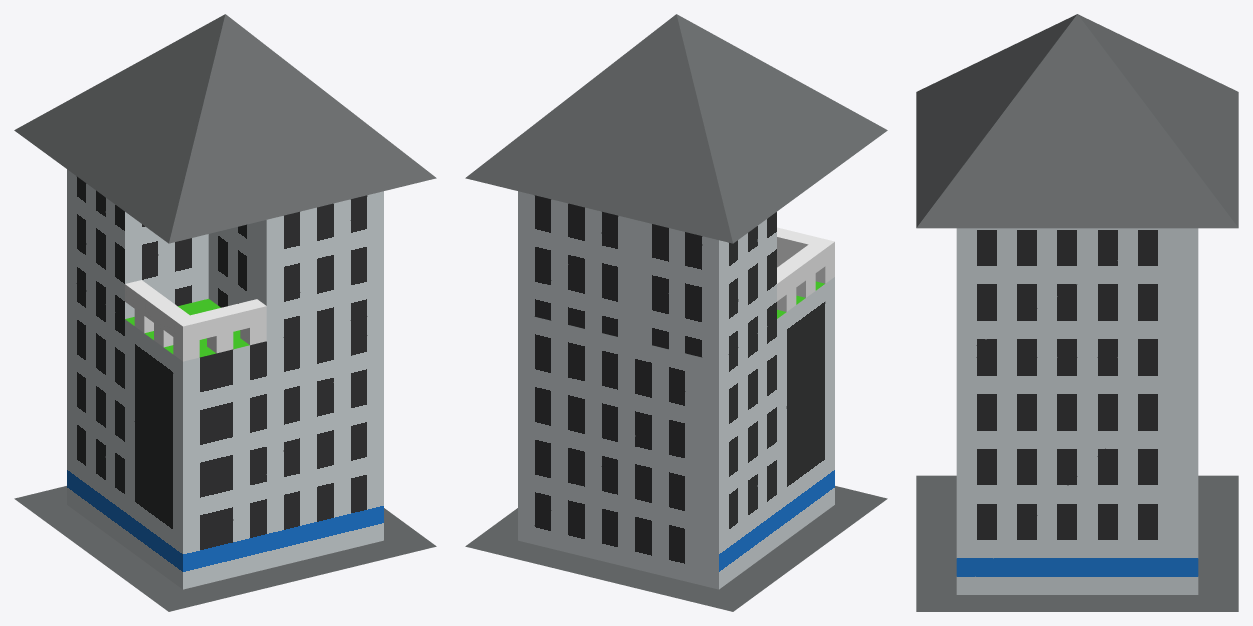
Rendered from building.gltf.
The picture shows the model from 3 angles, left to right: view 1: azimuth 30°, elevation 25°; view 2: azimuth 150°, elevation 25°; view 3: azimuth 270°, elevation 25°; orthographic projection. The views are drawn at different scales.
Visible parts, largest first — view 1: building, pyramid, building_up, building_corner, plane, cube; view 2: building, pyramid, building_corner, building_up, plane; view 3: building, pyramid, building_up, plane.
Part boxes in pixels (x1,y1,x2,y2): building: (67, 277, 383, 589); pyramid: (14, 14, 436, 243); building_up: (208, 191, 383, 340); building_corner: (67, 169, 208, 318); plane: (14, 486, 436, 611); cube: (173, 315, 199, 343); building: (518, 277, 834, 589); pyramid: (465, 14, 887, 243); building_corner: (635, 212, 776, 361); building_up: (518, 191, 635, 340); plane: (465, 486, 887, 611); building: (956, 357, 1198, 594); pyramid: (916, 14, 1238, 228); building_up: (956, 228, 1198, 357); plane: (916, 475, 1238, 611).
Bounding box in the file's own units: 1 × 1.81 × 1.
Materials: 6 (3 with a texture image).
